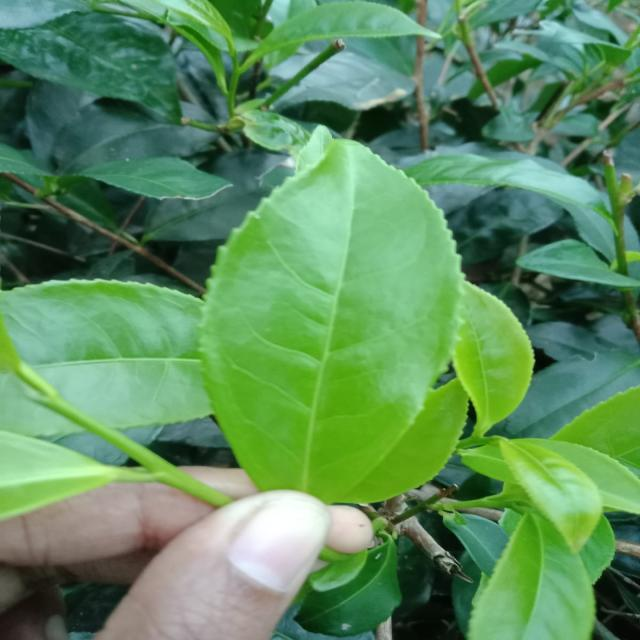Category C(4-7 days): (182, 121, 484, 508)
